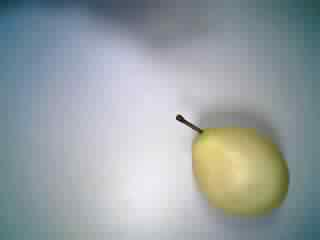pear: (169, 102, 299, 221)
